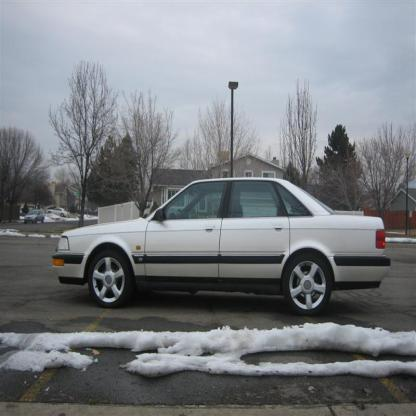Vehicle: (52, 179, 392, 317)
